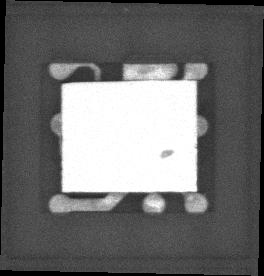DIE_INK: (151, 155, 167, 167)
